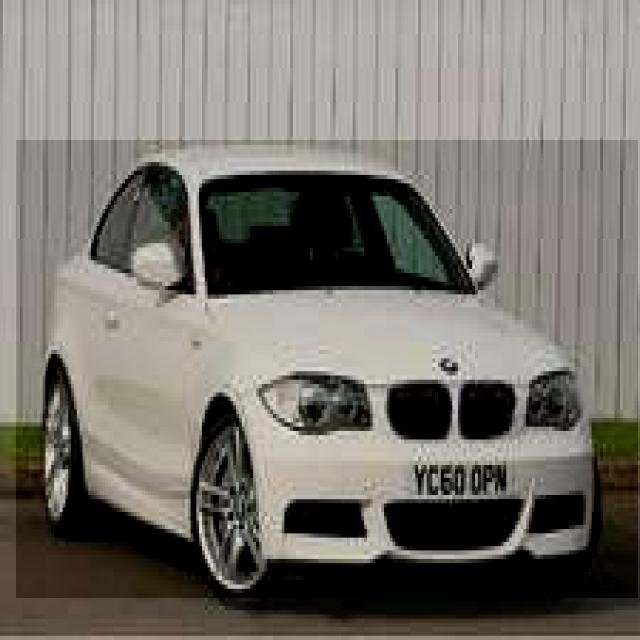Car: (16, 140, 638, 598)
